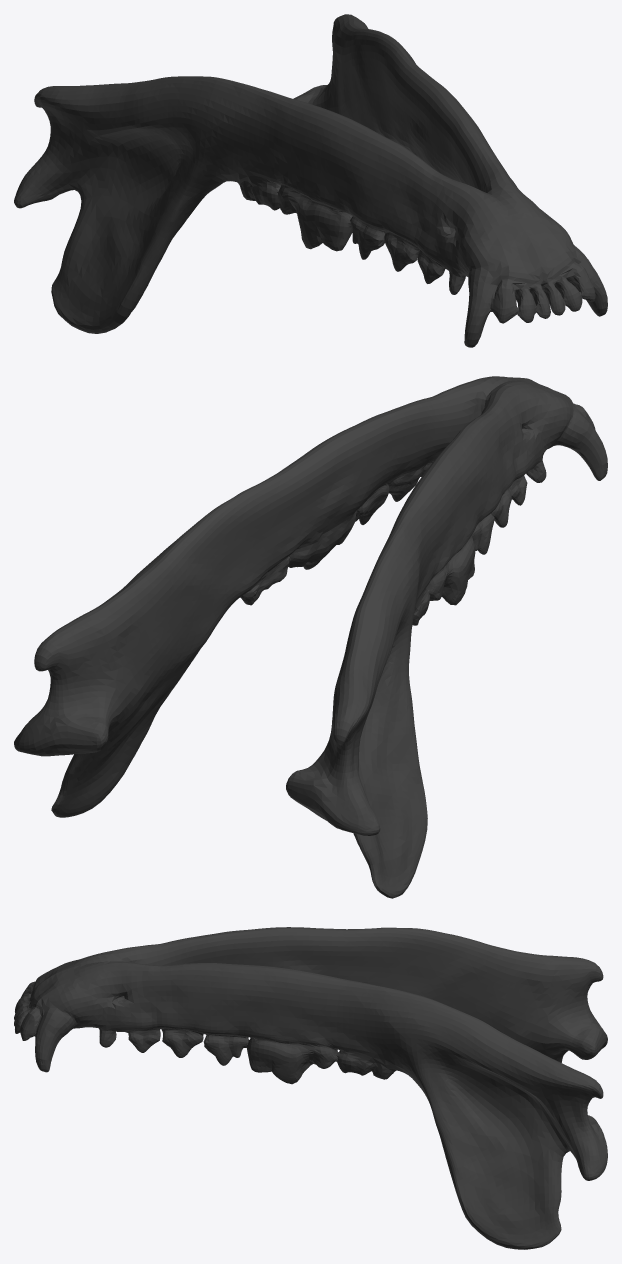
The model's file is Mandible_1.glb.
3 views of the same model, one above another, from view 1: azimuth 30°, elevation 25°; view 2: azimuth 150°, elevation 25°; view 3: azimuth 270°, elevation 25° (orthographic). The views are drawn at different scales.
Visible parts, largest first — view 1: Mandible_1; view 2: Mandible_1; view 3: Mandible_1.
Boxes of the visible parts, x1,y1,x2,y2 form: Mandible_1: [14, 14, 607, 347]; Mandible_1: [14, 376, 607, 898]; Mandible_1: [14, 927, 607, 1249].
Bounding box in the file's own units: 0.00263 × 0.00204 × 0.00462.
1 material, 1 textured.
